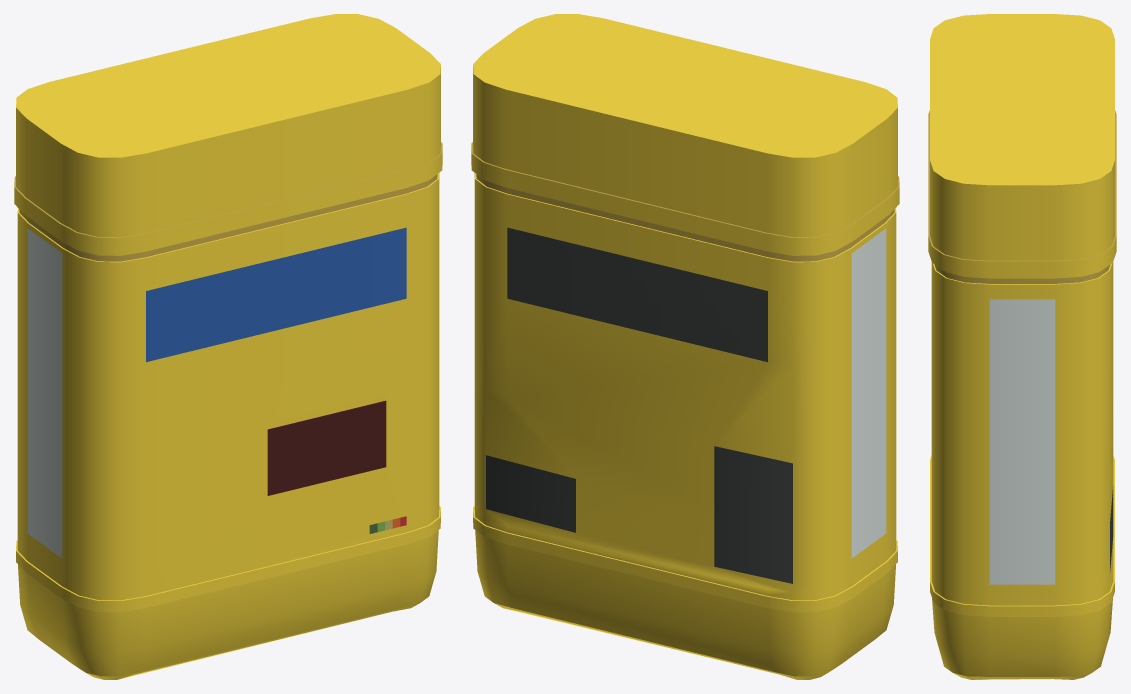
Rendered from P_chocolat_poudre.fbx.
3 renders of one model, left to right at view 1: azimuth 30°, elevation 25°; view 2: azimuth 150°, elevation 25°; view 3: azimuth 270°, elevation 25°, orthographic. The views are drawn at different scales.
Parts seen in each view (by area): view 1: Box002; view 2: Box002; view 3: Box002.
Boxes of the visible parts, x1,y1,x2,y2 form: Box002: (14,14,442,679); Box002: (471,14,899,679); Box002: (928,14,1116,679).
Bounding box in the file's own units: 20.16 × 27.51 × 9.3.
